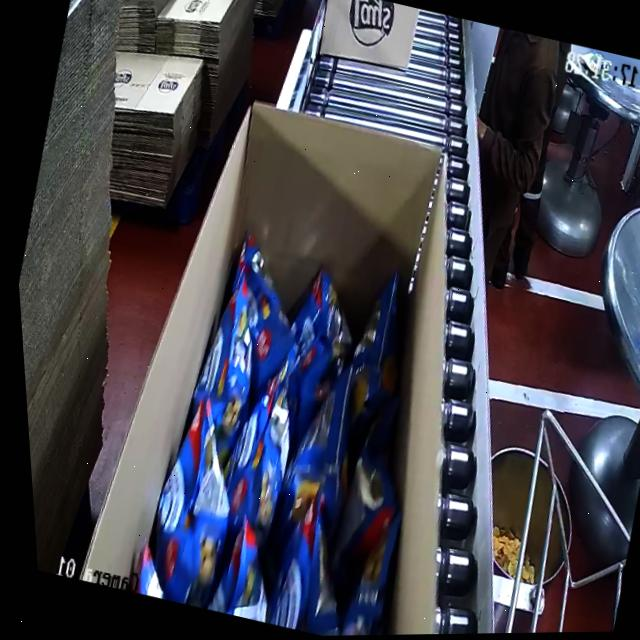PAPRIKA: (98, 237, 476, 639)
